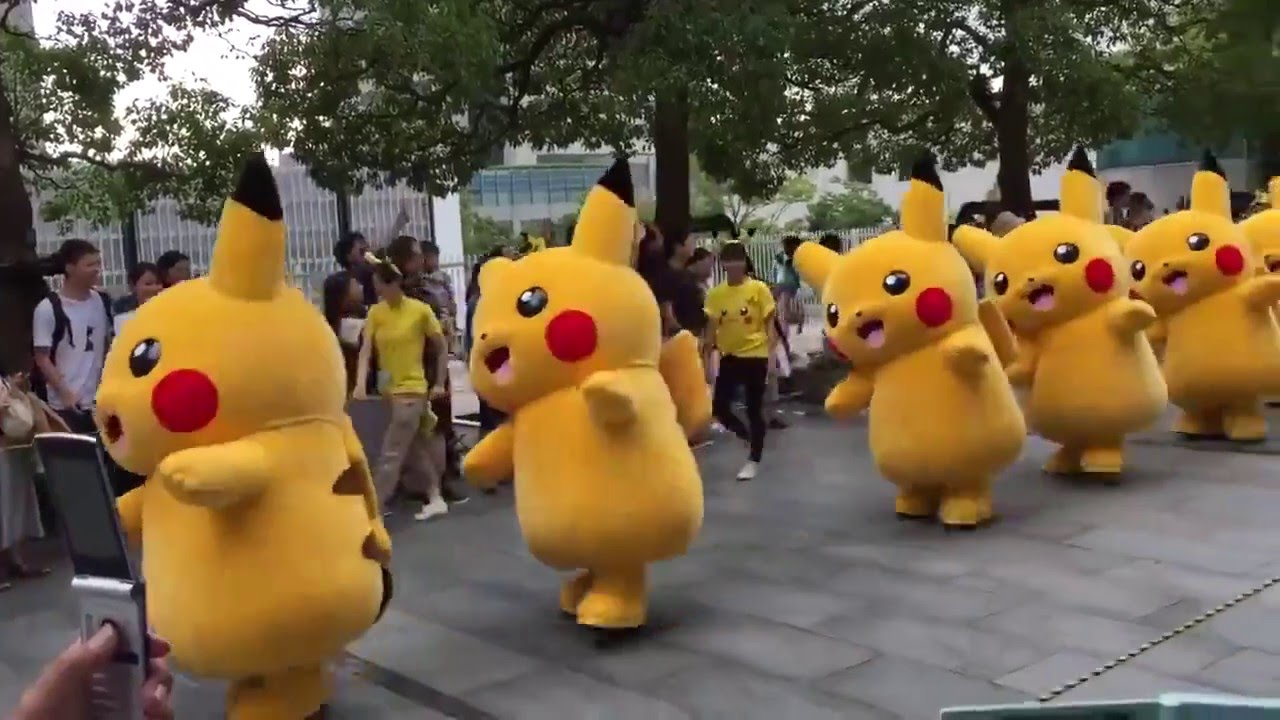pikachu: (87, 145, 394, 720), (450, 159, 713, 641), (786, 146, 1025, 549), (962, 138, 1175, 498), (1110, 149, 1279, 450)
